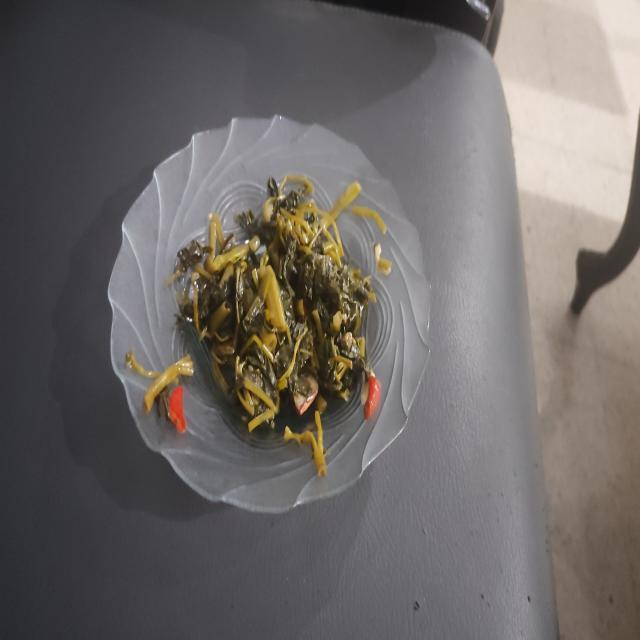tumis_kangkung: (173, 176, 380, 477)
